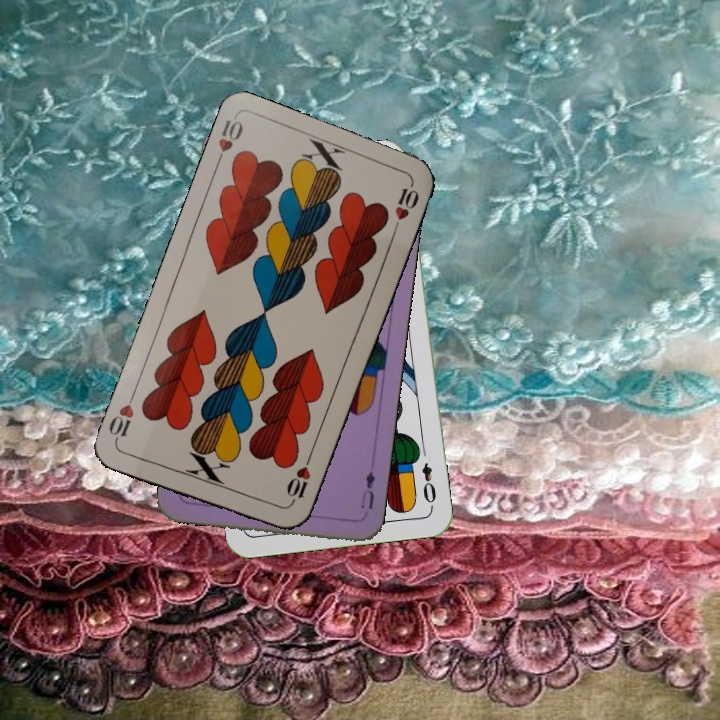EO: (418, 459, 439, 511)
EU: (357, 467, 378, 512)
H10: (211, 114, 246, 171), (282, 452, 314, 509)
